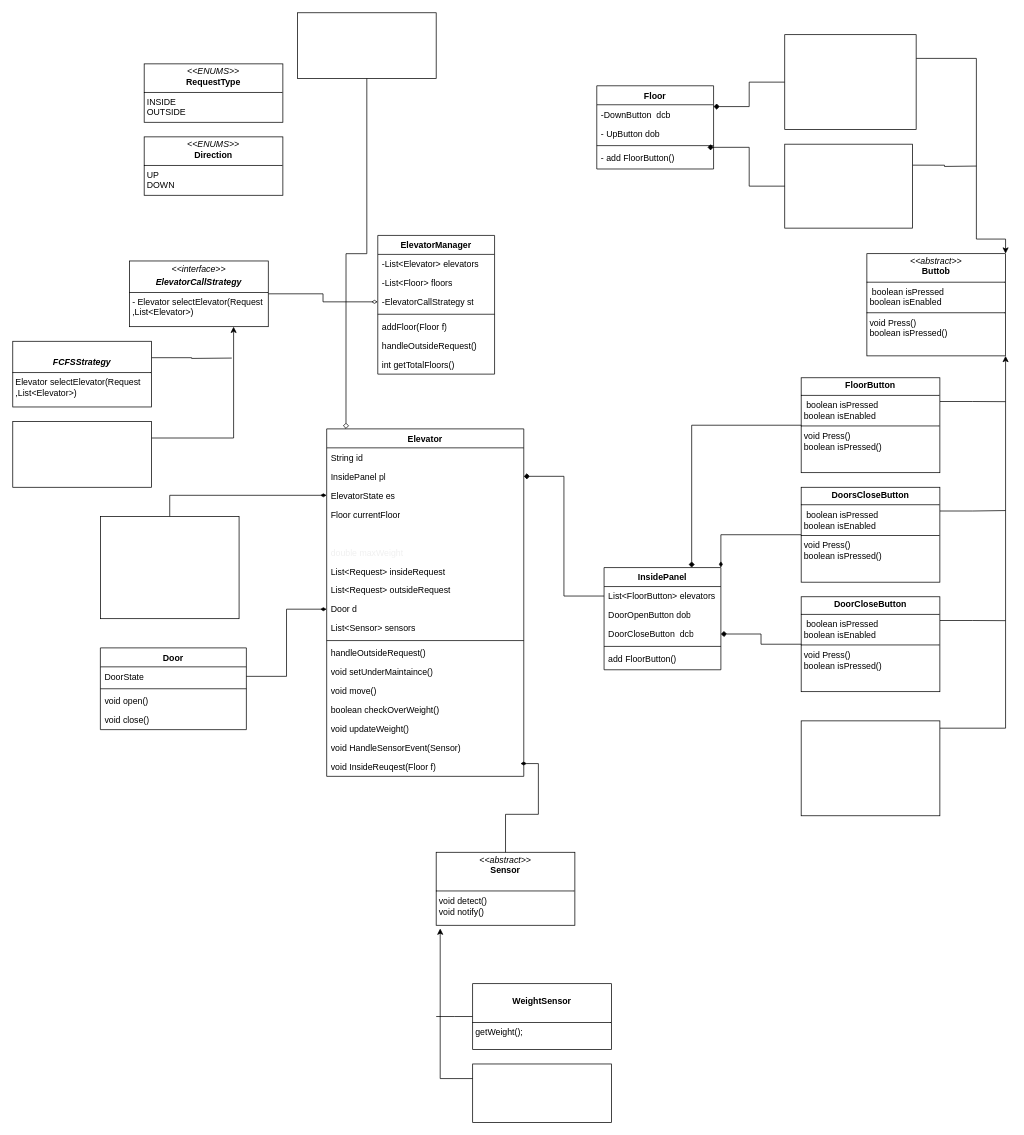
The diagram is 1024 pixels wide and 1135 high, and some of its shapes have lost their labels. The centre of each missing label's shape, as x and y in pixels:
"<<ENUMS>> ElevatorState IDLE MOVING_UP MOVING_DOWN UNDER_MAINTANENCE OVERLOADED" belongs at [169,567].
"AlarmButton boolean isPressed boolean isEnabled void Press() boolean isPressed()" belongs at [870,768].
"DownButton boolean isPressed boolean isEnabled void Press() boolean isPressed()" belongs at [848,185].
"EmergencySensor detechEmergency()" belongs at [541,1092].
"NearestElevatorStrategy Elevator selectElevator(Request ,List<Elevator>)" belongs at [81,454].
"Request -RequestType type -int floor -Direction dir" belongs at [366,45].
"UpButton boolean isPressed boolean isEnabled void Press() boolean isPressed()" belongs at [850,82].
